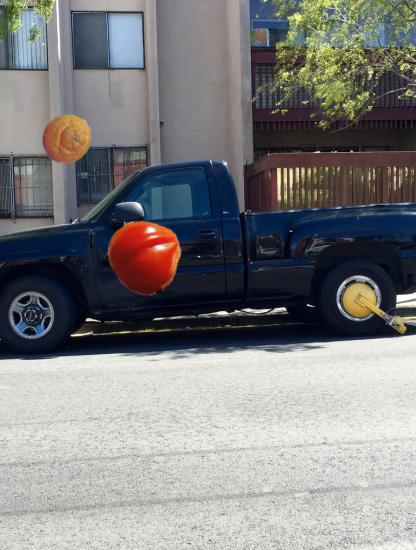Mandarine: (41, 113, 93, 165)
Tomato: (108, 219, 184, 295)
